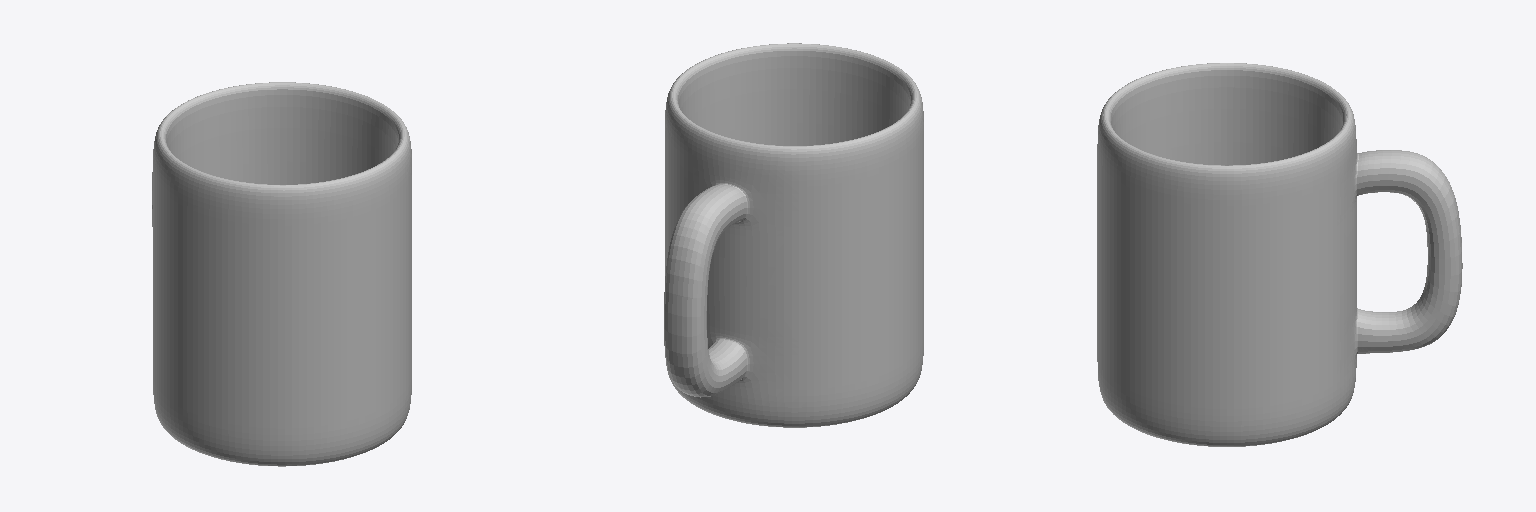
Rendered from mug_small.obj.
The picture shows the model from 3 angles: view 1: azimuth 30°, elevation 25°; view 2: azimuth 150°, elevation 25°; view 3: azimuth 270°, elevation 25°; orthographic projection.
Visible parts, largest first — view 1: Cylinder01; view 2: Cylinder01; view 3: Cylinder01.
Boxes of the visible parts, x1=… form: Cylinder01: x1=152, y1=82, x2=411, y2=466; Cylinder01: x1=664, y1=43, x2=923, y2=427; Cylinder01: x1=1097, y1=63, x2=1462, y2=446.
Bounding box in the file's own units: 0.64 × 0.7711 × 0.9015.